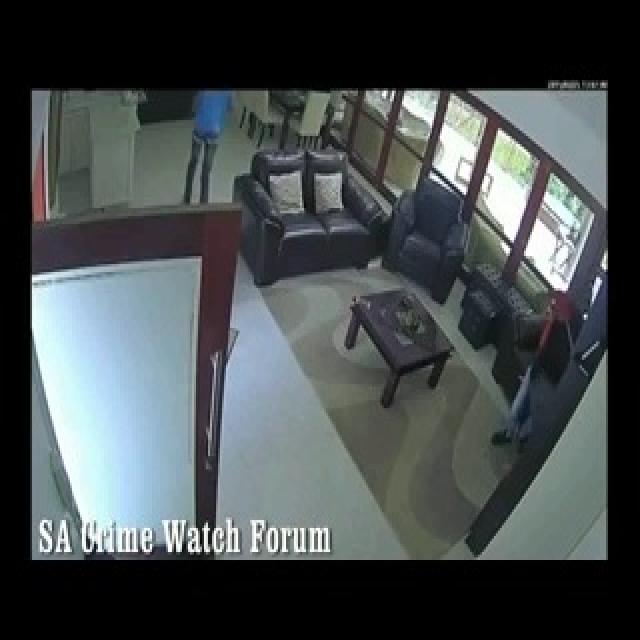thief: (179, 87, 237, 203)
